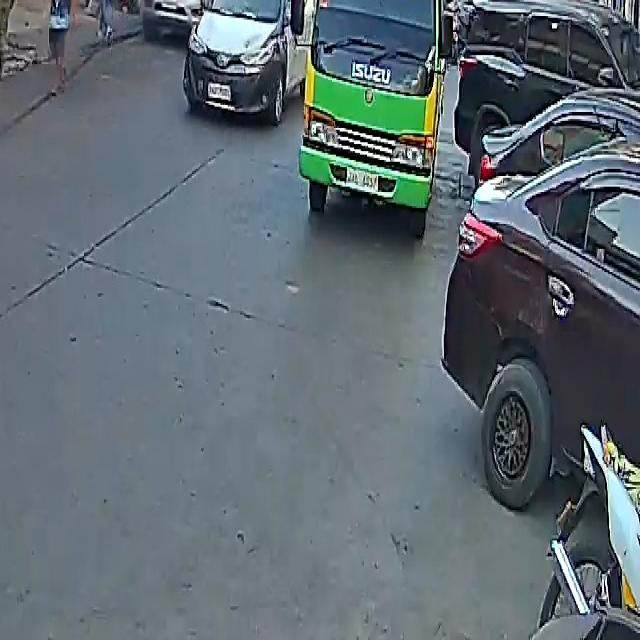car: (443, 152, 640, 510), (449, 0, 639, 187), (182, 0, 315, 126), (138, 0, 242, 43)
